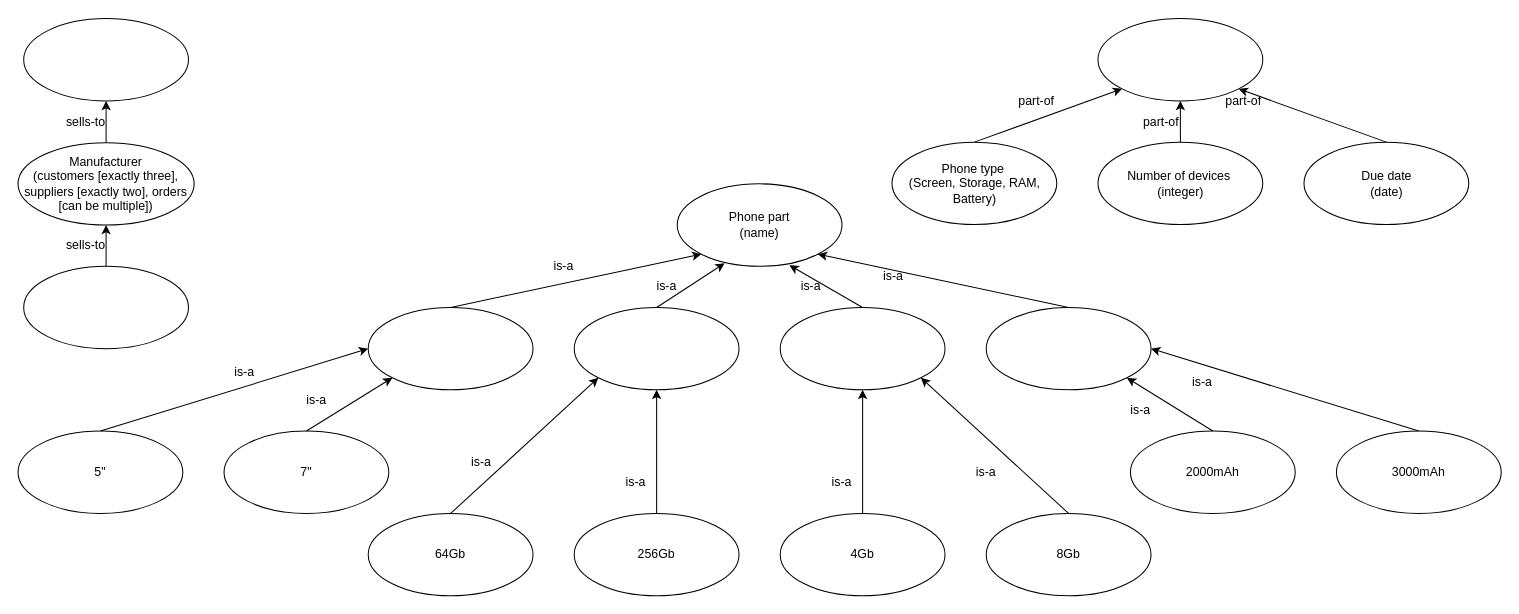
The diagram is 1519 pixels wide and 614 high, and some of its shapes have lost their labels. The centre of each missing label's shape, as x and y in pixels:
"Battery (capacity)" belongs at (1068,348).
"Customer (name, order [can be multiple])" belongs at (105,59).
"Order (order number)" belongs at (1180,59).
"RAM (amount)" belongs at (862,348).
"Screen (size)" belongs at (450,348).
"Storage (amount)" belongs at (656,348).
"Supplier (name, phone parts [at least one], delivery time)" belongs at (105,307).
